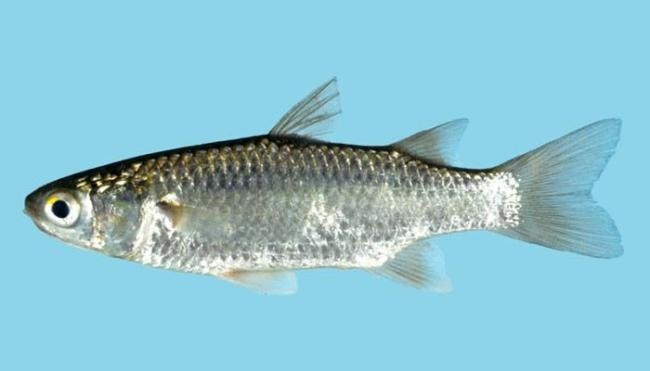fish: (23, 76, 626, 296)
